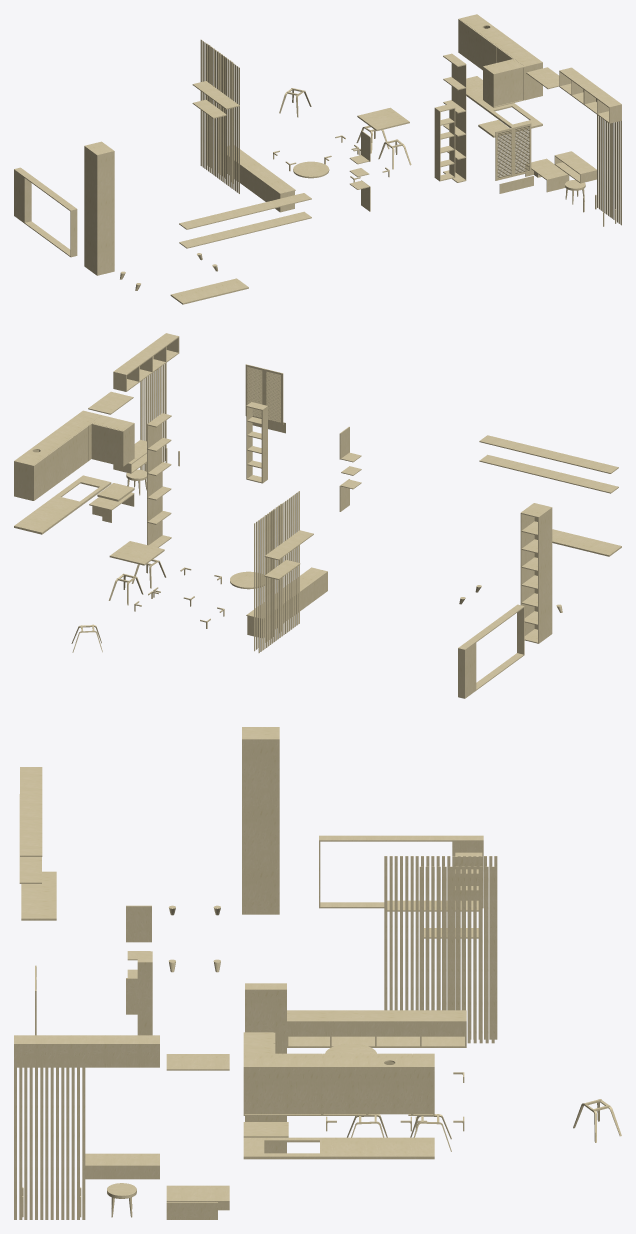
The picture shows the model from 3 angles, top to bottom: view 1: azimuth 30°, elevation 25°; view 2: azimuth 150°, elevation 25°; view 3: azimuth 270°, elevation 25°; orthographic projection. The views are drawn at different scales.
Size of the model in its own units: 9.99 by 2.72 by 8.12.
1 material, 1 textured.
